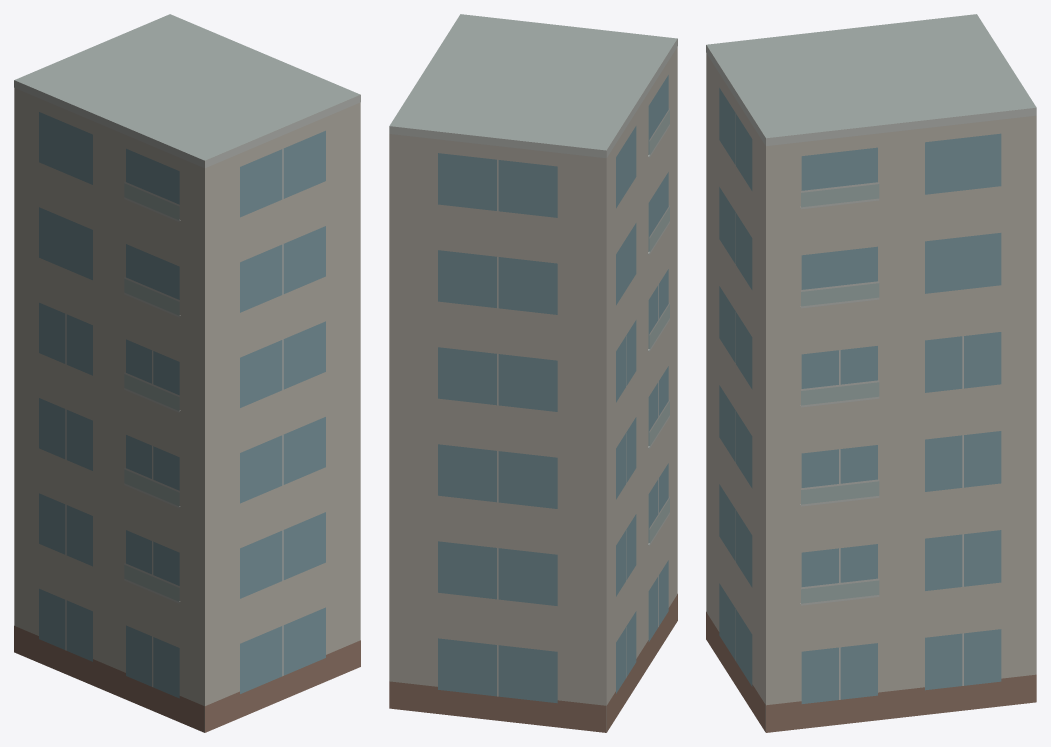
File: survey-upis-32639737.glb
3 views of the same model, side by side, from view 1: azimuth 30°, elevation 25°; view 2: azimuth 150°, elevation 25°; view 3: azimuth 270°, elevation 25° (orthographic). The views are drawn at different scales.
Parts seen in each view (by area): view 1: survey-upis-32639737.tmp; view 2: survey-upis-32639737.tmp; view 3: survey-upis-32639737.tmp.
Boxes of the visible parts, x1,y1,x2,y2 form: survey-upis-32639737.tmp: [14, 14, 360, 732]; survey-upis-32639737.tmp: [389, 14, 677, 732]; survey-upis-32639737.tmp: [706, 14, 1036, 732].
Size of the model in its own units: 8.21 by 18.3 by 9.23.
